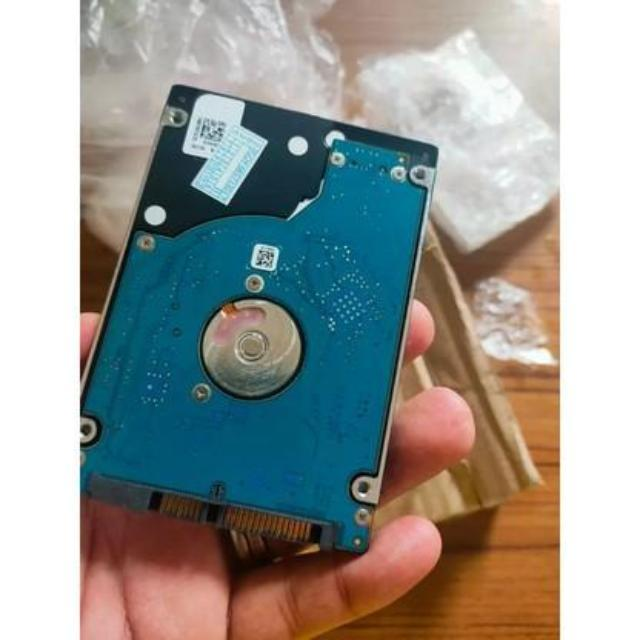DISK: (76, 80, 441, 557)
